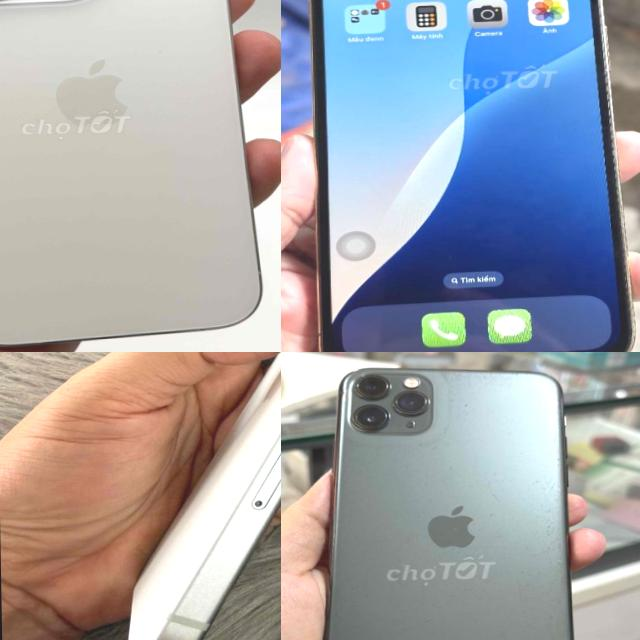gen_11: (313, 357, 580, 640)
gen_12_13: (300, 0, 640, 352)
gen_15: (0, 0, 280, 350), (102, 352, 281, 640)
